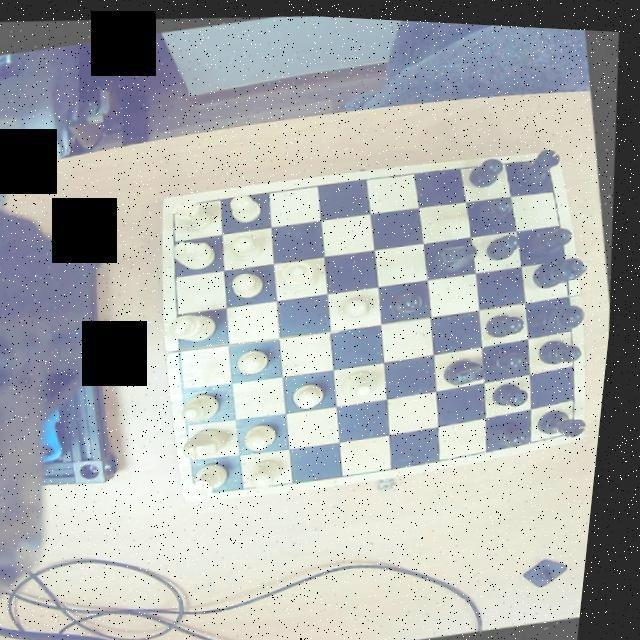chess-table-corners: (192, 473, 222, 500), (163, 194, 192, 220), (530, 144, 562, 165), (568, 409, 594, 434)
